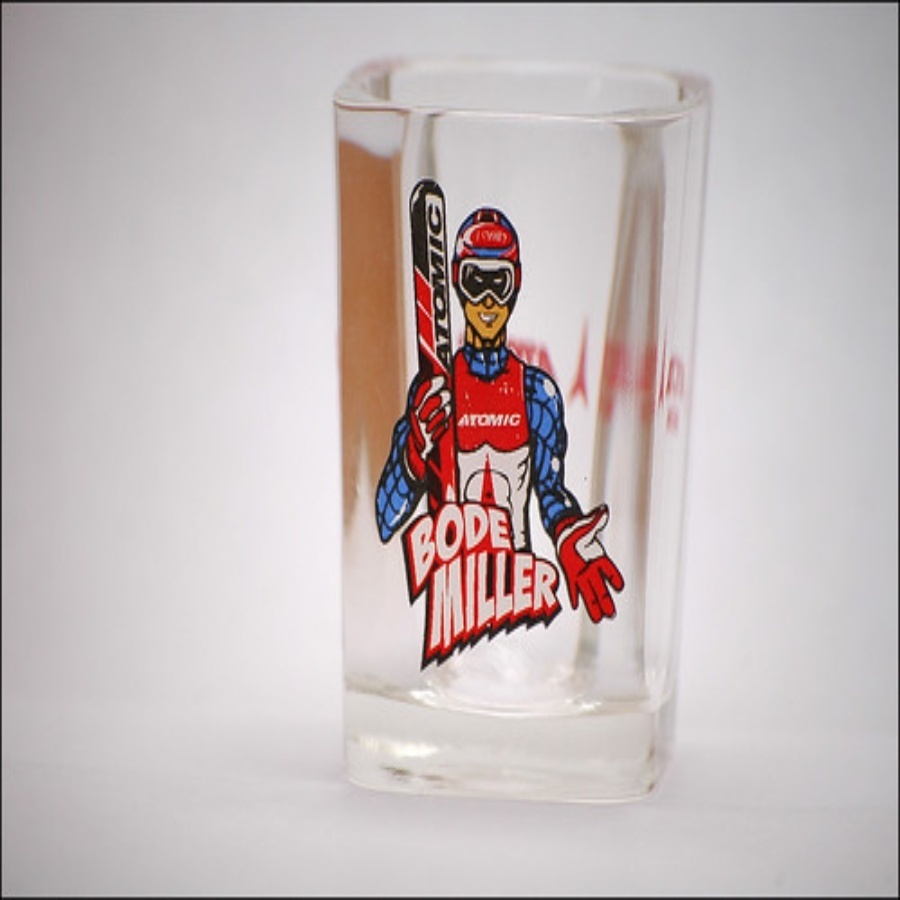whiskey: (337, 55, 713, 770)
